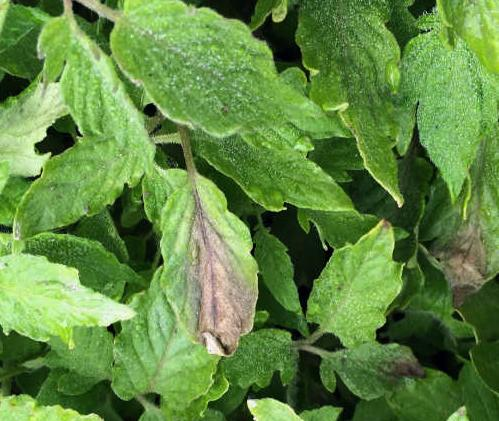Tomato mold leaf: (107, 0, 347, 137), (293, 0, 427, 212), (132, 165, 278, 355), (15, 2, 179, 164), (10, 134, 172, 243), (406, 15, 486, 206), (424, 110, 499, 308), (297, 227, 401, 346), (0, 257, 155, 331)
